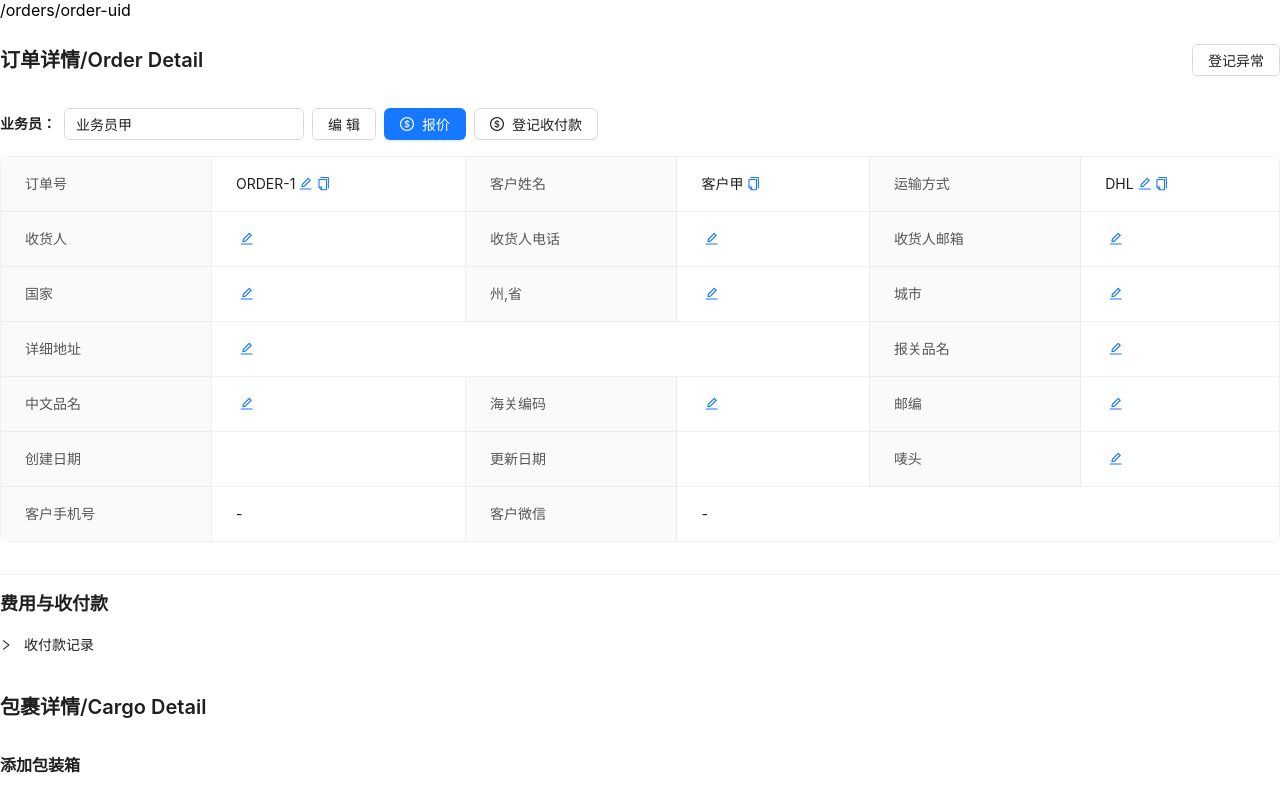
Test: 空订单、无报价 仍可登记独立收付款，不查询旧订单余额
The image size is (1280, 785).
Click the button "登记收付款". click: (536, 124)
box: [474, 108, 598, 140]
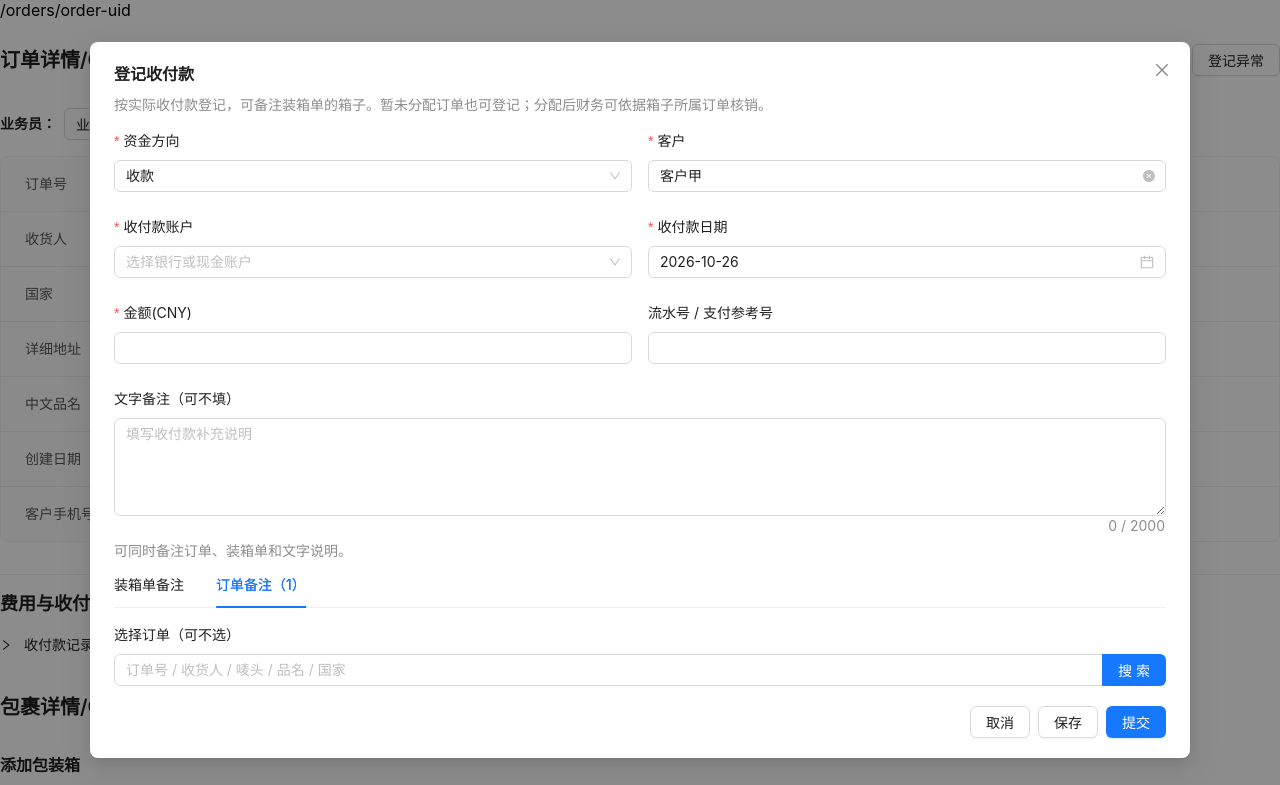
Expected: the text with test id "current-location" reads "/orders/order-uid", [0, 0, 131, 20]
Expected: the element named "收付款客户" reads "客户甲", [660, 167, 702, 184]
Expected: the number field labelled "金额(CNY)" is empty, [115, 333, 631, 363]
